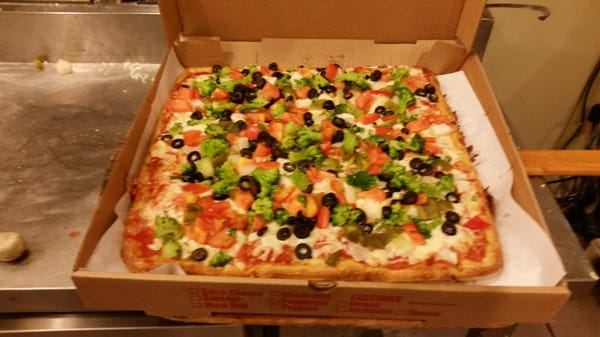sandwich: (120, 60, 505, 282)
